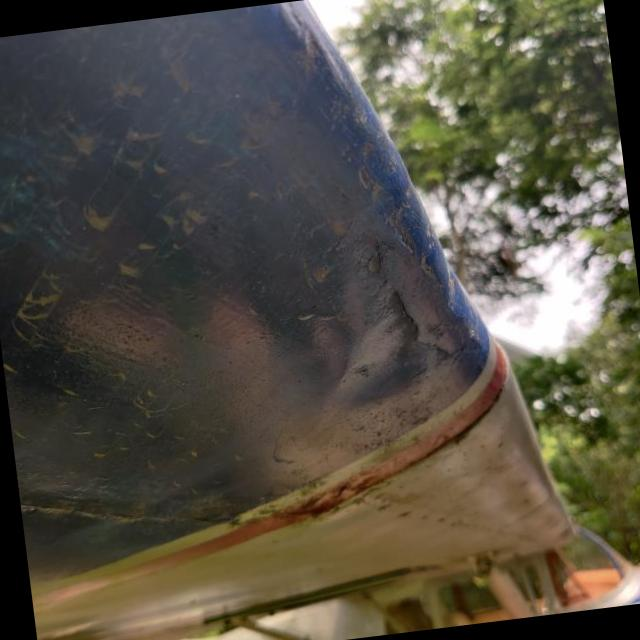Dent: (304, 256, 464, 454)
